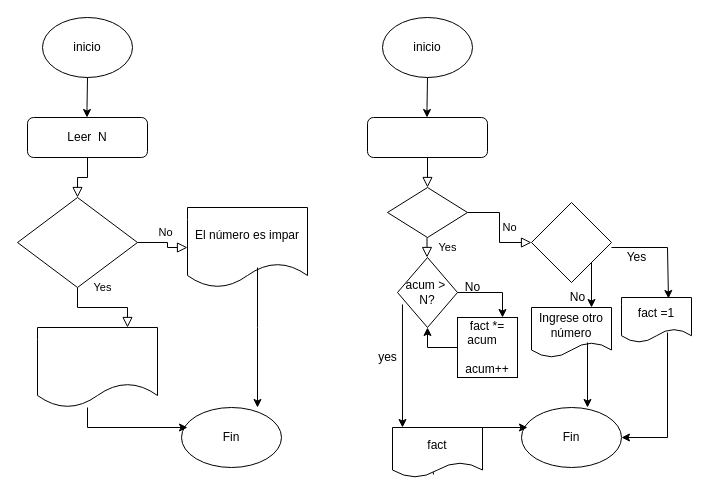
Image size: 709x500. Some labels were removed from this diagram. The centre of each missing label's shape, as x and y in pixels:
"El número es par" goes at (97,367).
"es divisible entre 2?" goes at (77,242).
"leer N acum = 1 fact = 1" goes at (427,137).
"N=0" goes at (571,242).
"N>0" goes at (427,212).
